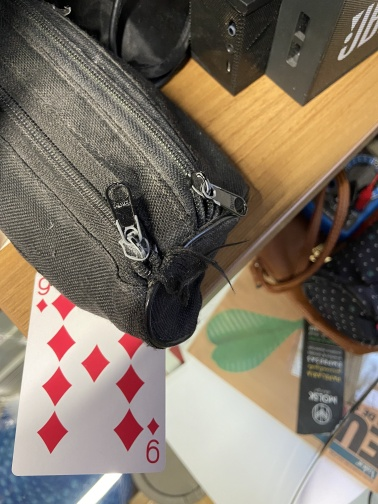nine: (9, 268, 173, 478)
